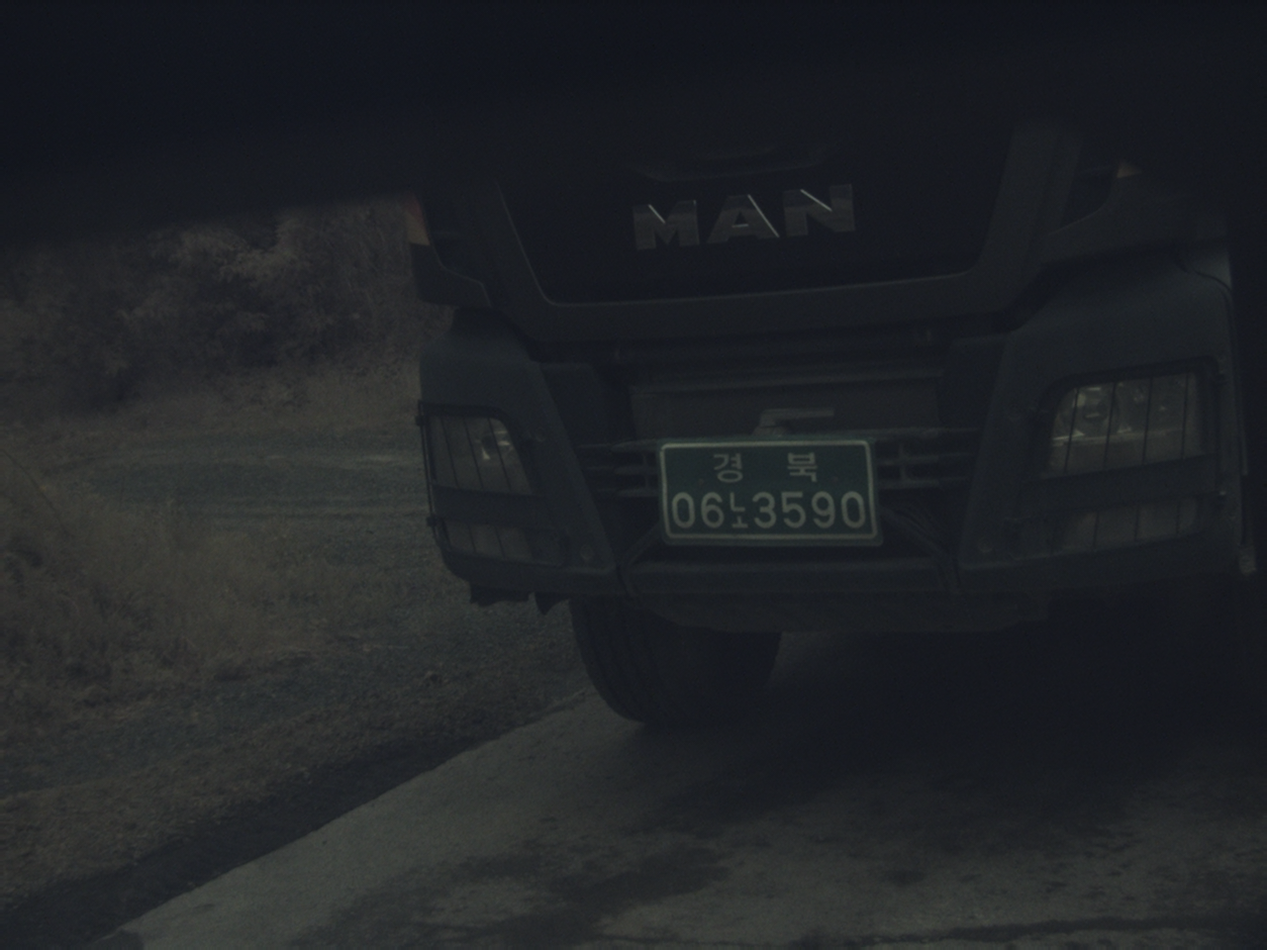license_plate: (658, 438, 881, 544)
truck: (411, 82, 1255, 724)
